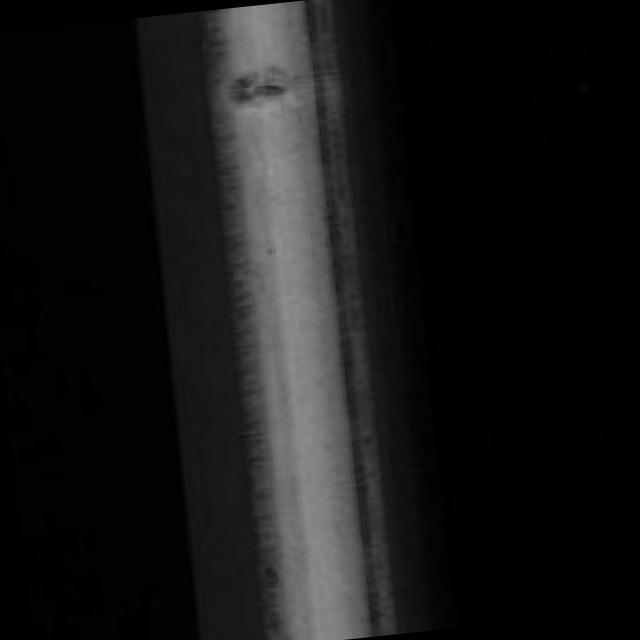defective: (142, 0, 372, 156)
